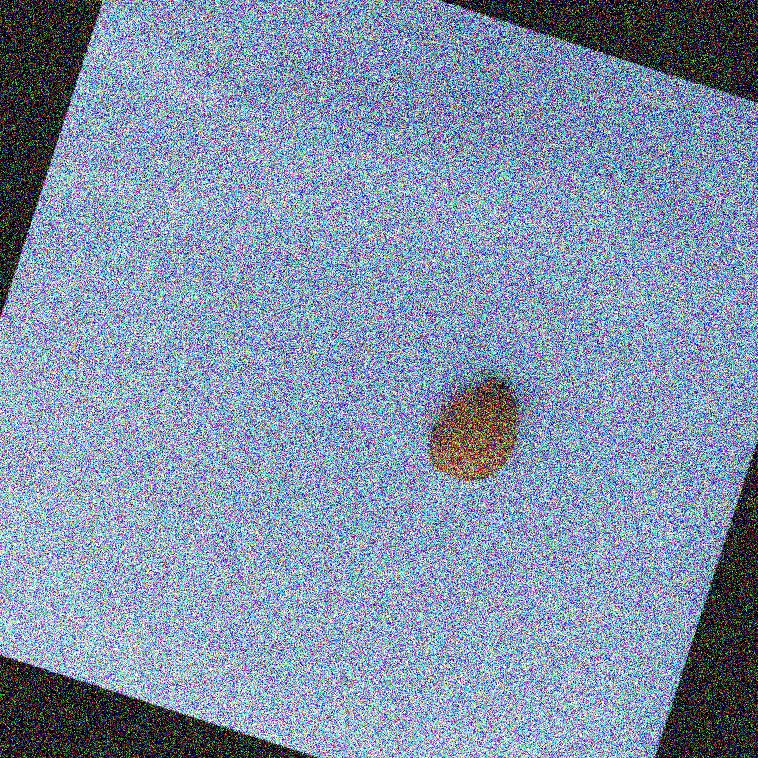grade2: (412, 360, 537, 497)
